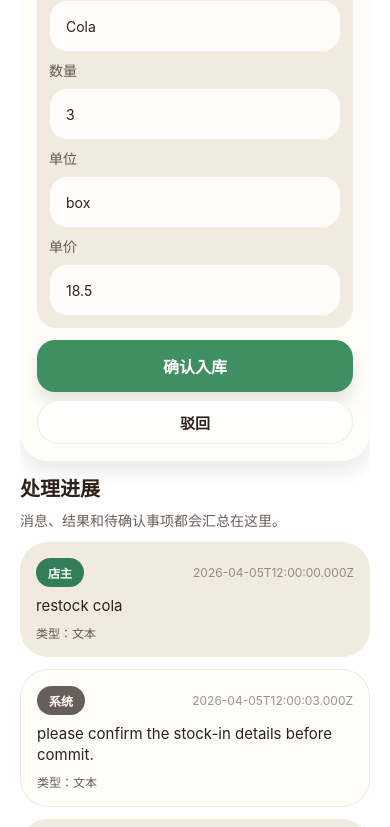
ChatScreen › shows a recoverable error when confirmation rejection fails
(page scrolled)
What coordinates should you click on to do the following:
click the button with test id "confirm-reject-conf_1"
I would click on:
 (195, 422)
Its box is [37,400,353,444].
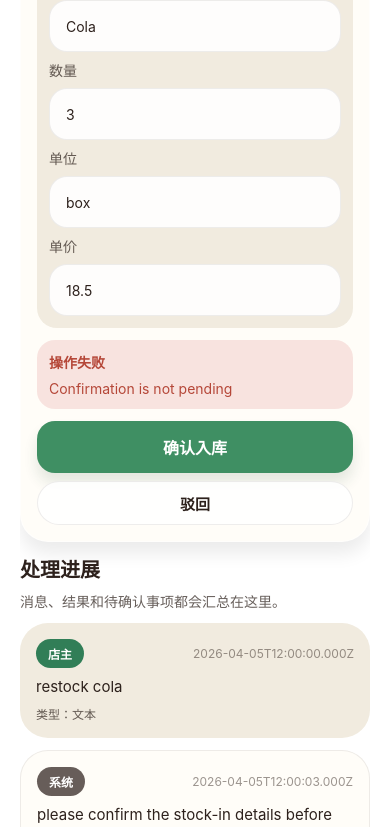
Check: the button with test id "confirm-approve-conf_1" is shown, box [37,421,353,473]
Check: the text "Confirmation is not pending" is shown, box [49,380,232,397]
